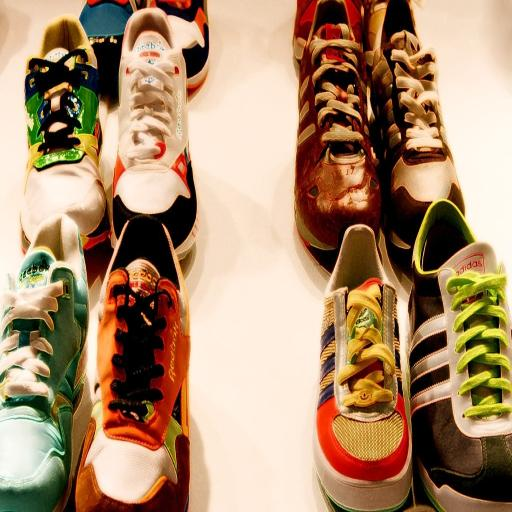shoe: (75, 215, 190, 512), (407, 199, 512, 510), (314, 224, 412, 510), (0, 215, 88, 512), (371, 0, 464, 264), (295, 0, 381, 251), (112, 8, 198, 258), (20, 16, 110, 250), (79, 0, 150, 98), (153, 0, 209, 90), (292, 0, 364, 62), (362, 0, 387, 59)
